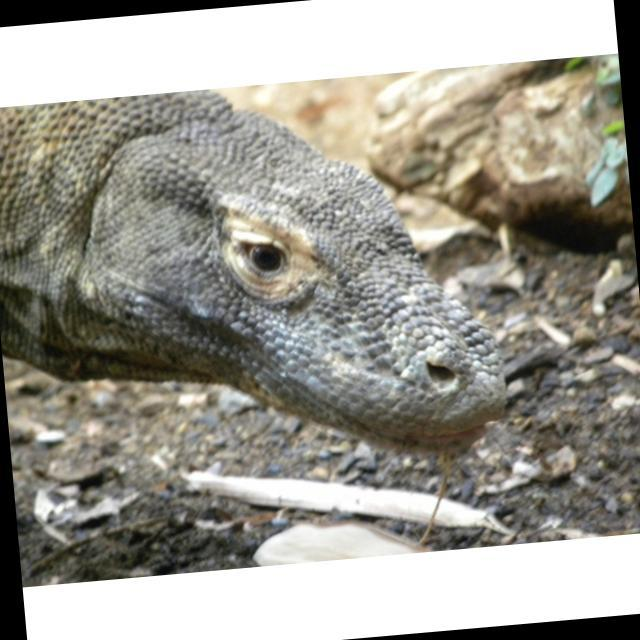KomodoDragon: (0, 65, 516, 497)
